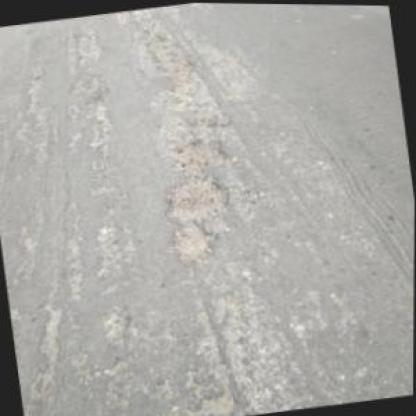pothole: (159, 169, 236, 225), (145, 29, 202, 101), (162, 136, 232, 176), (32, 300, 72, 368), (169, 218, 221, 268), (193, 386, 241, 414), (99, 306, 133, 344)
